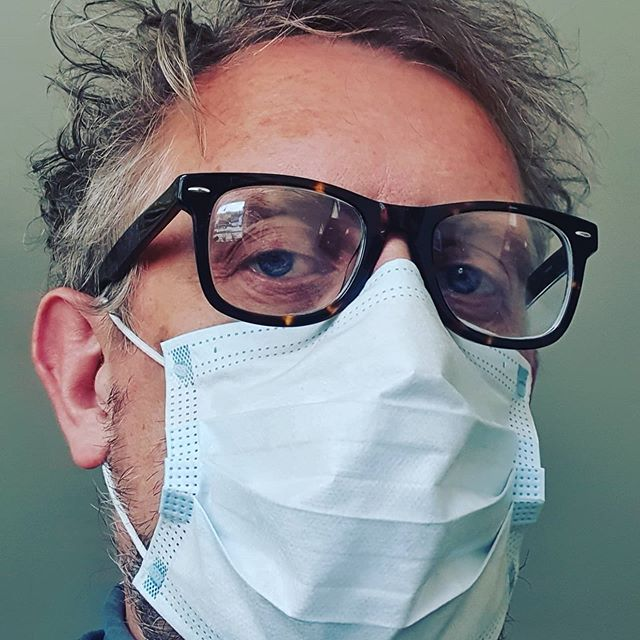surgical: (74, 254, 551, 640)
